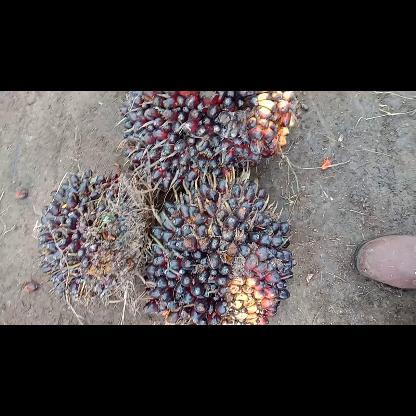TBS mentah: (142, 176, 294, 324), (115, 90, 303, 198), (35, 164, 152, 308)
